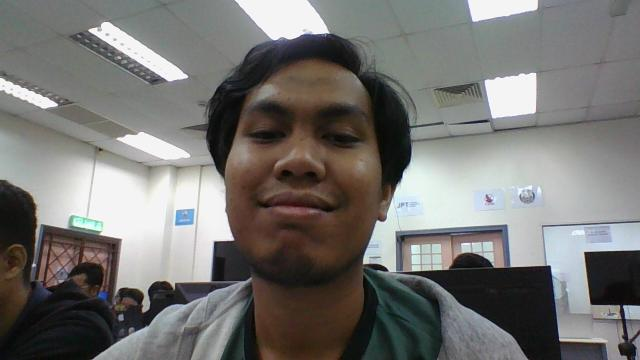senang: (202, 31, 400, 290)
